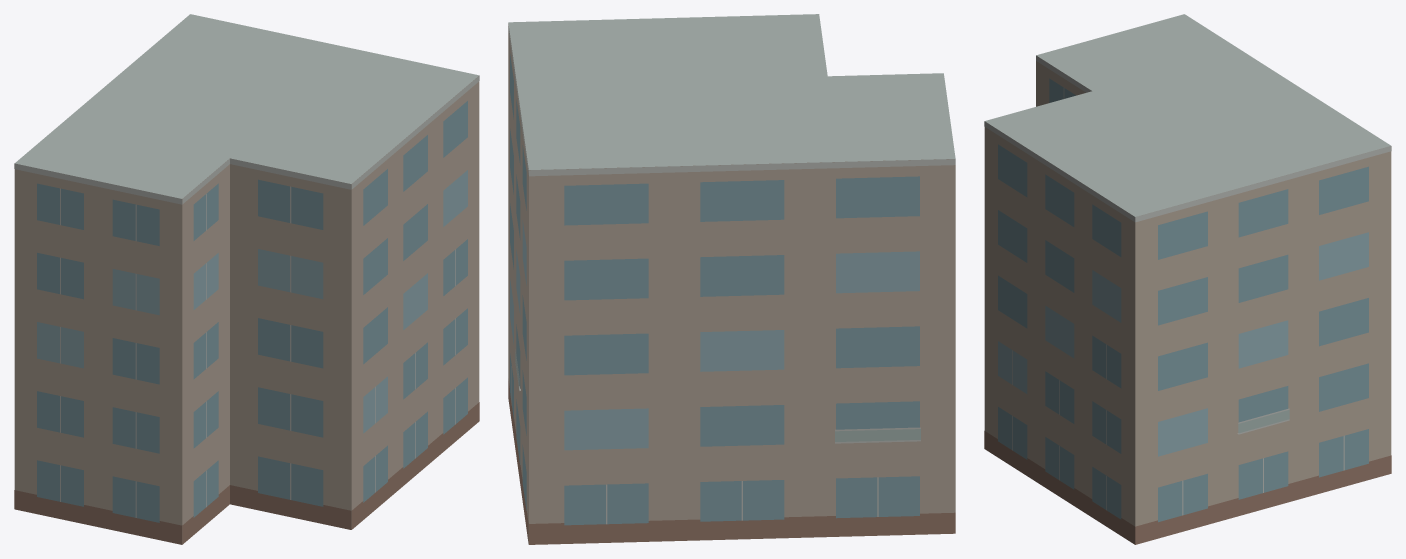
Rendered from survey-upis-32695808.glb.
3 renders of one model, left to right at view 1: azimuth 30°, elevation 25°; view 2: azimuth 150°, elevation 25°; view 3: azimuth 270°, elevation 25°, orthographic. The views are drawn at different scales.
Parts seen in each view (by area): view 1: survey-upis-32695808.tmp; view 2: survey-upis-32695808.tmp; view 3: survey-upis-32695808.tmp.
Part boxes in pixels (box(x1,y1,x2,y2)): survey-upis-32695808.tmp: box(14, 14, 479, 544); survey-upis-32695808.tmp: box(508, 14, 955, 544); survey-upis-32695808.tmp: box(984, 14, 1391, 544).
Size of the model in its own units: 19.53 by 14.7 by 16.54.
